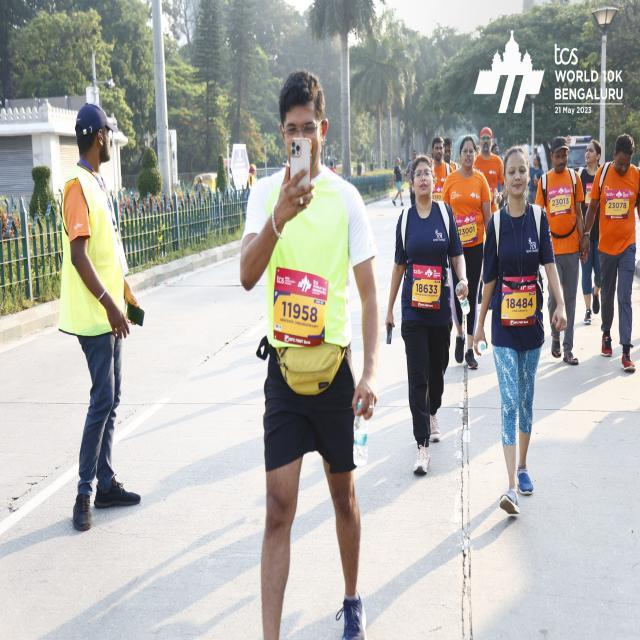dorsal: (272, 260, 331, 355), (500, 270, 538, 326), (411, 260, 442, 312), (604, 187, 631, 220), (546, 186, 572, 217)
